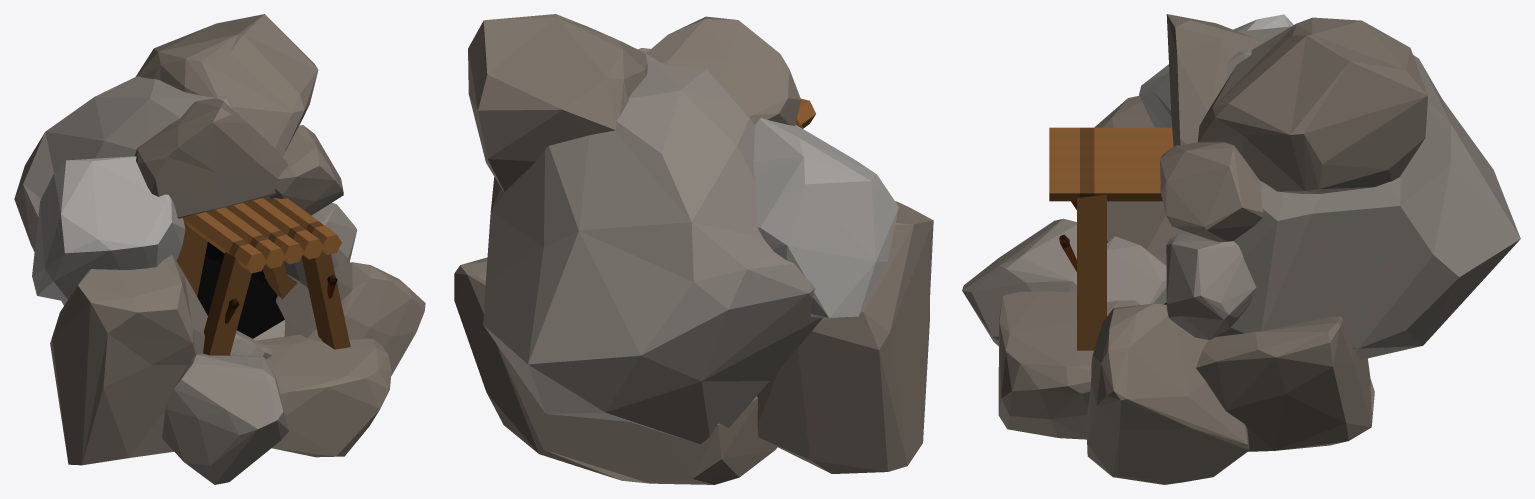
Rendered from iron_mine.dae.
The picture shows the model from 3 angles, left to right: view 1: azimuth 30°, elevation 25°; view 2: azimuth 150°, elevation 25°; view 3: azimuth 270°, elevation 25°; orthographic projection. The views are drawn at different scales.
Parts seen in each view (by area): view 1: Cave, Entrance; view 2: Cave; view 3: Cave, Entrance.
Part boxes in pixels (x1=…): Cave: x1=14, y1=14, x2=425, y2=484; Entrance: x1=176, y1=198, x2=350, y2=355; Cave: x1=454, y1=14, x2=933, y2=484; Cave: x1=962, y1=14, x2=1520, y2=484; Entrance: x1=1049, y1=127, x2=1173, y2=350.
Bounding box in the file's own units: 5.15 × 6.09 × 5.25.
